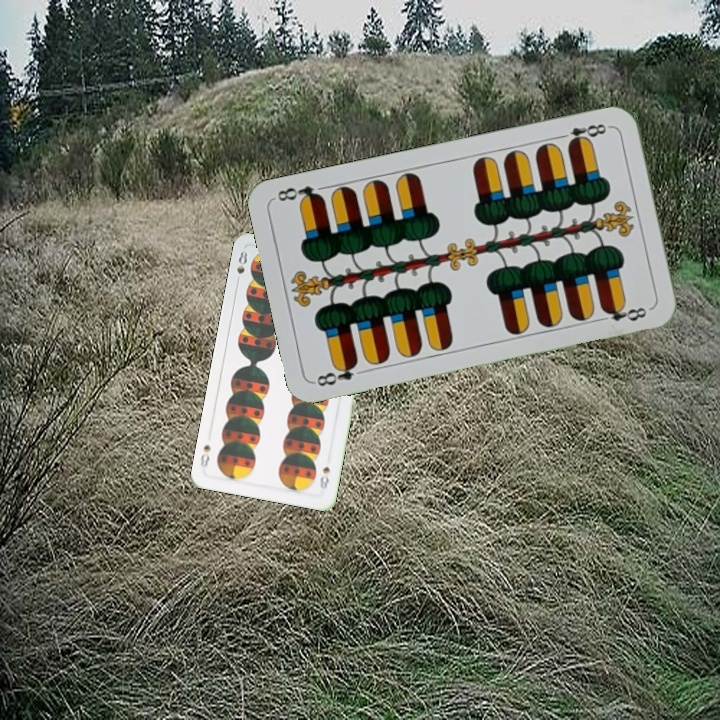E8: (555, 119, 613, 149), (312, 357, 360, 389)
S8: (232, 247, 250, 287), (316, 463, 332, 492)
